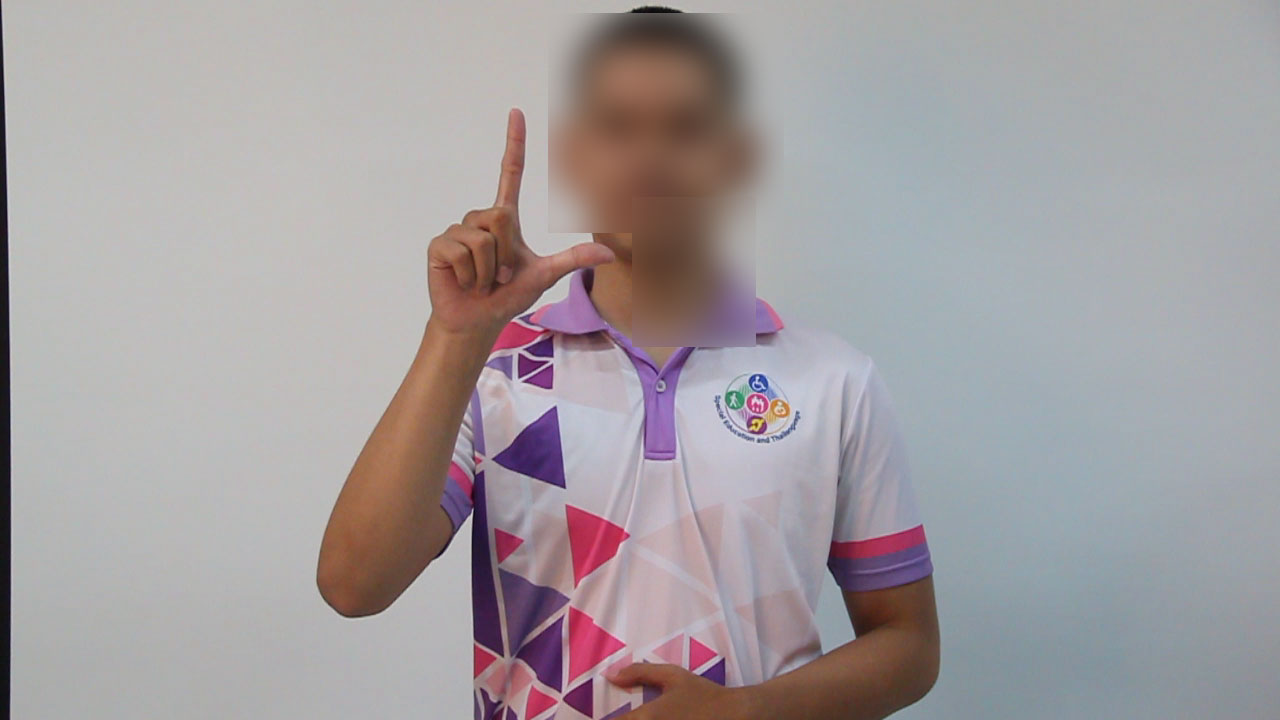lor: (414, 76, 625, 414)
